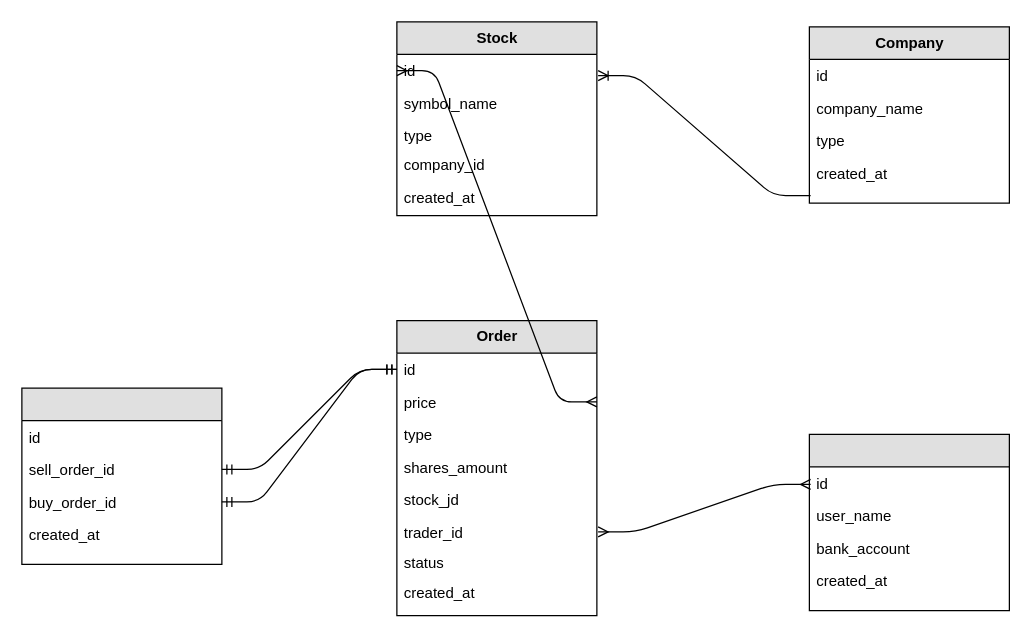
This 1031x638 diagram has some shape labels left out. Each missing label, with the box of its shape:
Trade: (21, 387, 222, 564)
Trader: (808, 433, 1009, 611)
